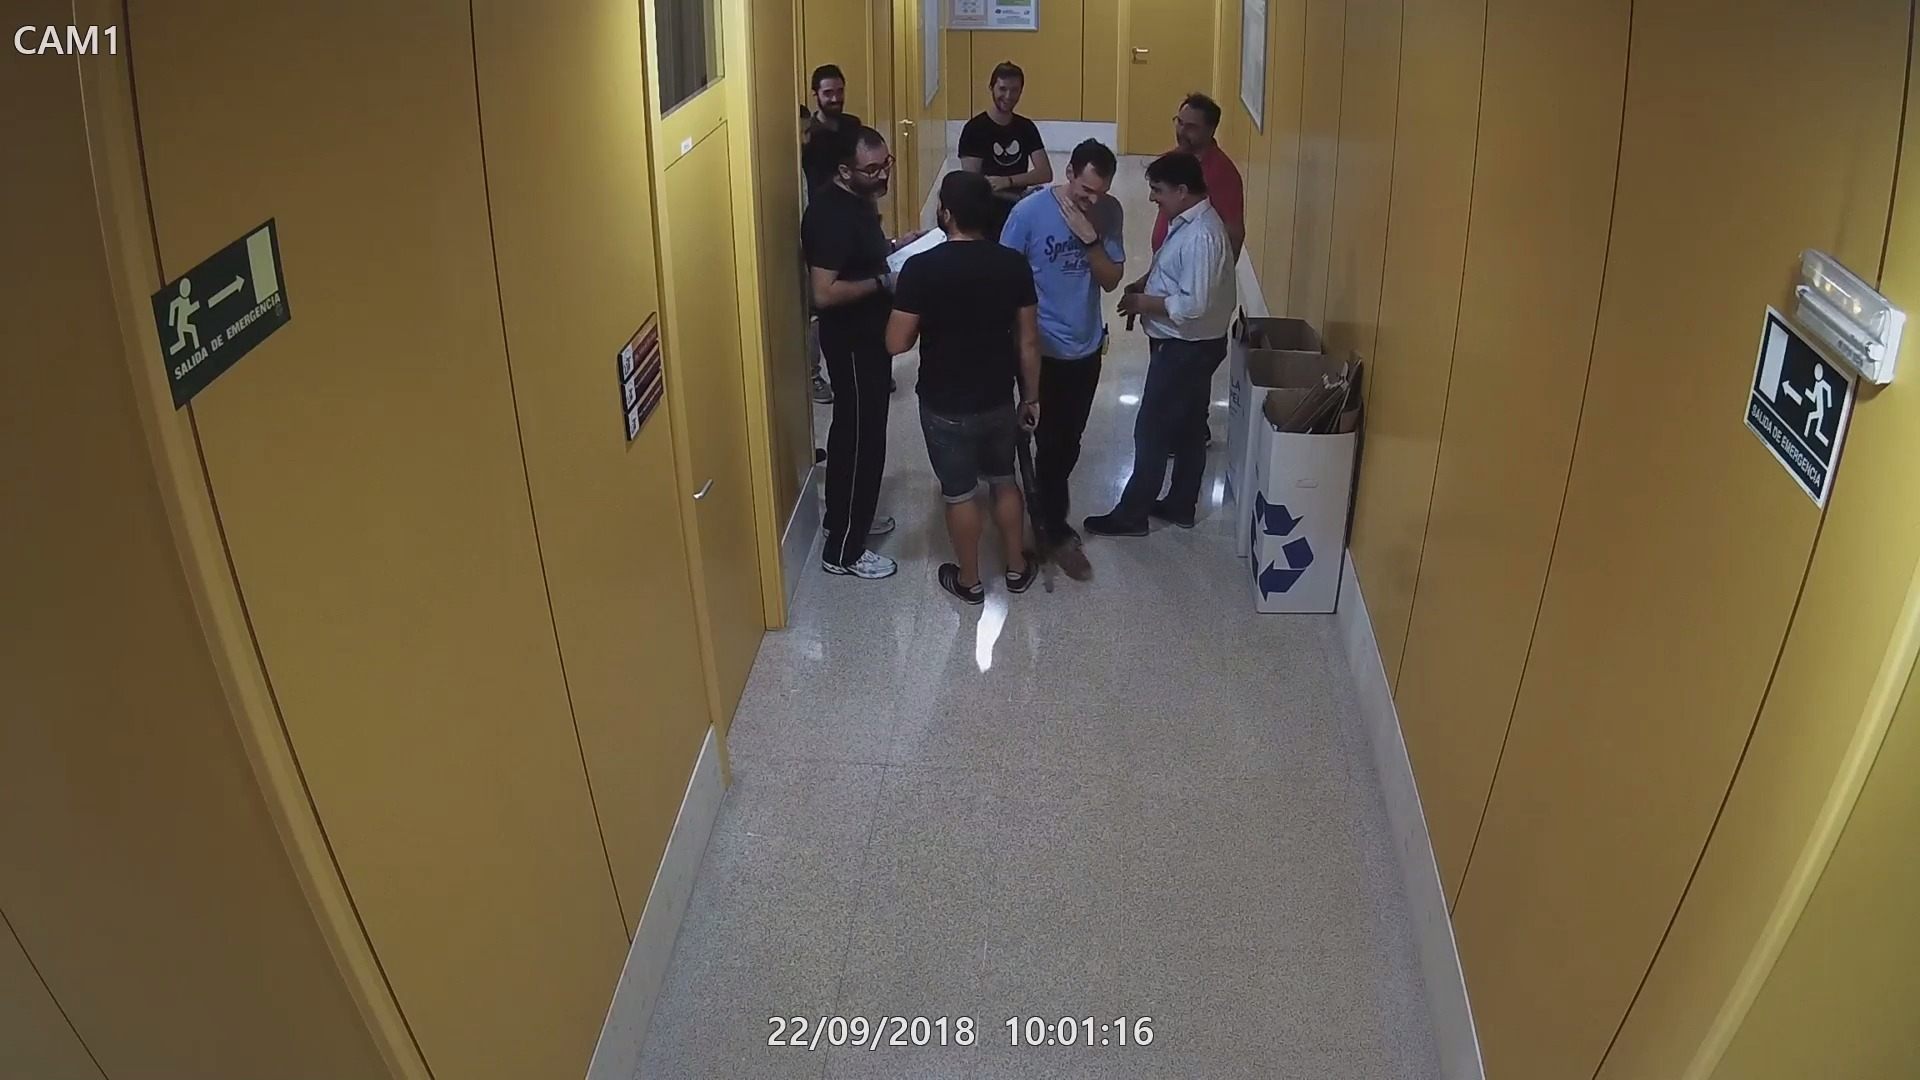Handgun: (1118, 281, 1145, 335)
Short_rifle: (1011, 407, 1051, 571)
